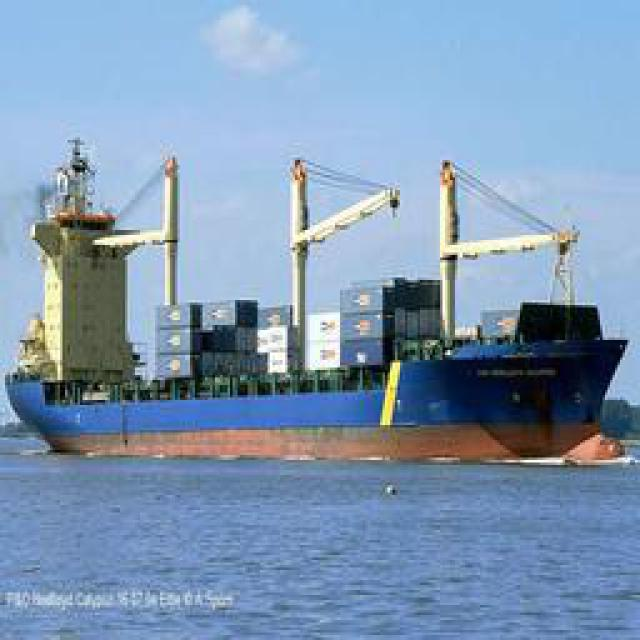Ship: (3, 374, 611, 464)
